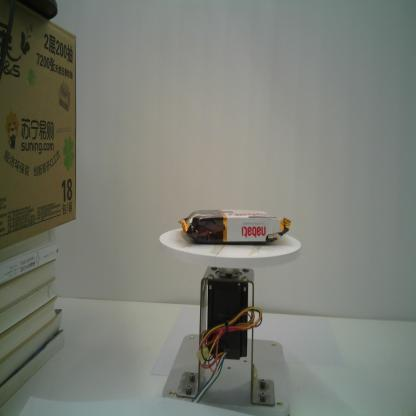Dessert: (177, 205, 292, 246)
